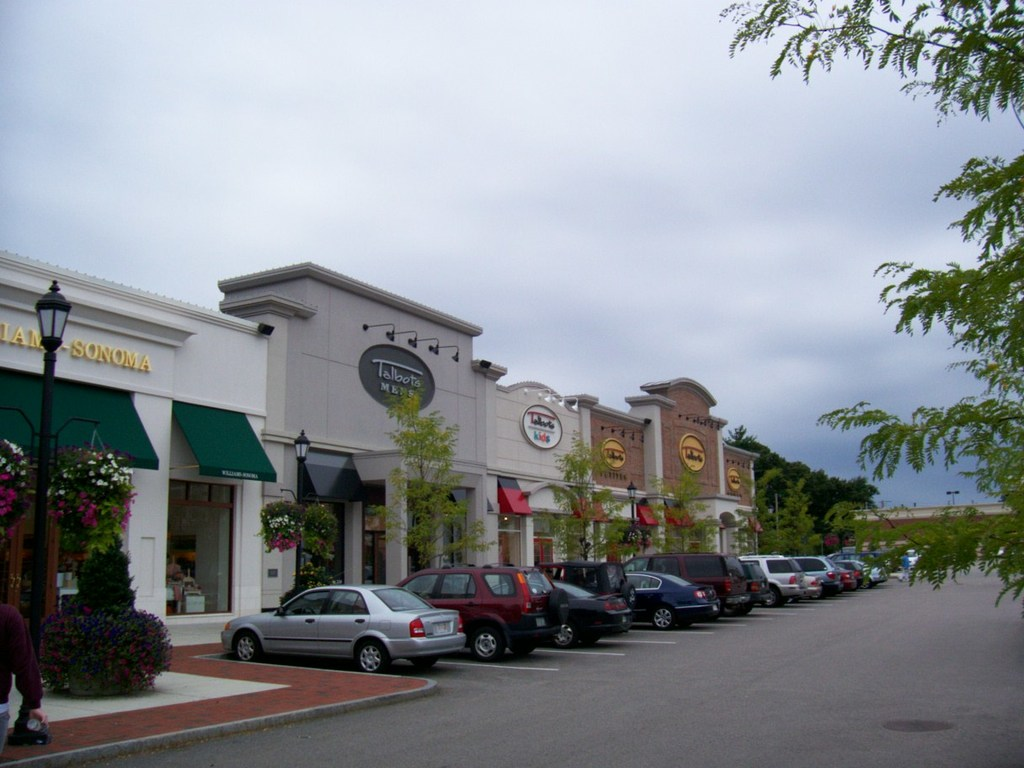Car: (352, 552, 888, 664), (217, 589, 448, 679), (899, 550, 922, 570)
